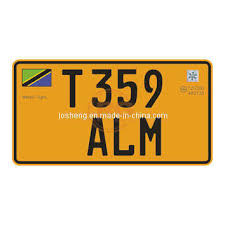T: (59, 64, 85, 110)
